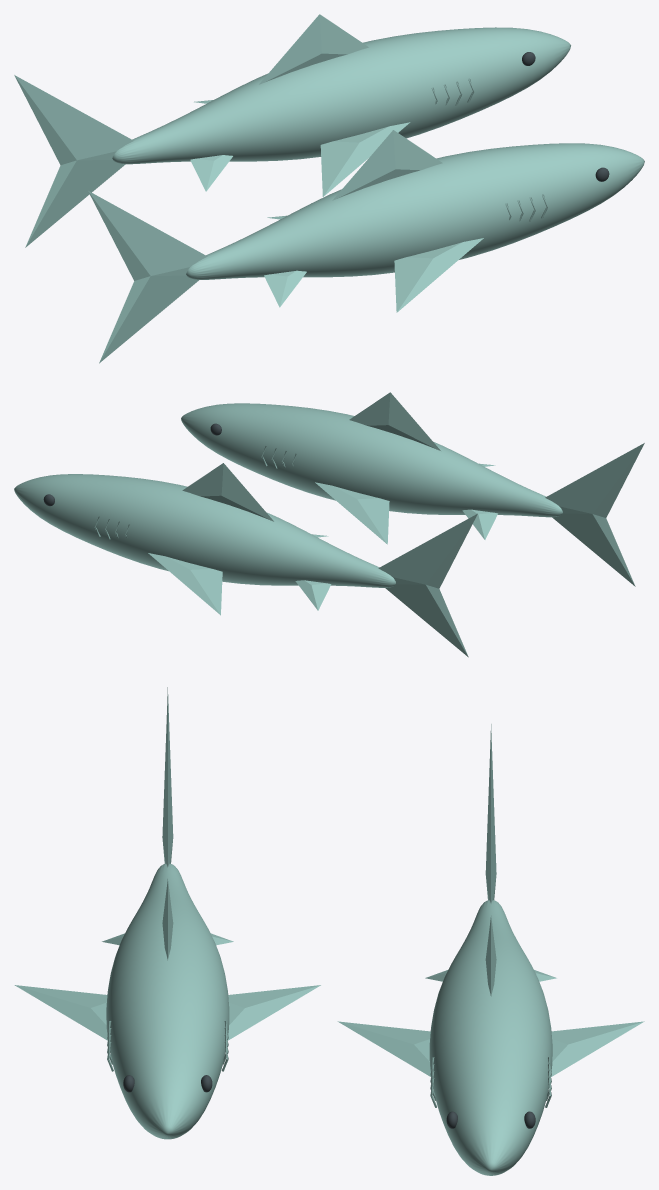
The picture shows the model from 3 angles, top to bottom: view 1: azimuth 30°, elevation 25°; view 2: azimuth 150°, elevation 25°; view 3: azimuth 270°, elevation 25°; orthographic projection. The views are drawn at different scales.
Parts seen in each view (by area): view 1: Body, Body.001, Tail.001, Tail, Dorsal.001, Dorsal, Pectoral, Pectoral.002, Pelvic, Pelvic.002; view 2: Body.001, Body, Tail.001, Tail, Dorsal.001, Dorsal, Pectoral.003, Pectoral.001, Pelvic.003, Pelvic.001; view 3: Body.001, Body, Pectoral.003, Pectoral, Pectoral.001, Pectoral.002, Tail, Tail.001.
Boxes of the visible parts, x1,y1,x2,y2 form: Body: [186, 143, 644, 279]; Body.001: [112, 27, 570, 164]; Tail.001: [14, 75, 133, 247]; Tail: [88, 191, 207, 363]; Dorsal.001: [259, 14, 368, 84]; Dorsal: [332, 130, 442, 200]; Pectoral: [394, 238, 483, 312]; Pectoral.002: [320, 122, 410, 196]; Pelvic: [264, 270, 306, 307]; Pelvic.002: [190, 155, 232, 191]; Body.001: [14, 474, 395, 587]; Body: [181, 403, 562, 517]; Tail.001: [378, 513, 477, 657]; Tail: [545, 443, 644, 586]; Dorsal.001: [182, 463, 273, 521]; Dorsal: [349, 392, 440, 450]; Pectoral.003: [148, 553, 222, 615]; Pectoral.001: [315, 482, 389, 544]; Pelvic.003: [295, 580, 331, 610]; Pelvic.001: [462, 509, 497, 539]; Body.001: [429, 900, 552, 1175]; Body: [106, 863, 229, 1139]; Pectoral.003: [551, 1021, 644, 1076]; Pectoral: [14, 985, 107, 1040]; Pectoral.001: [227, 985, 320, 1040]; Pectoral.002: [337, 1021, 430, 1076]; Tail: [162, 687, 173, 867]; Tail.001: [485, 724, 496, 903].
Bounding box in the file's own units: 196 × 53.2 × 146.
